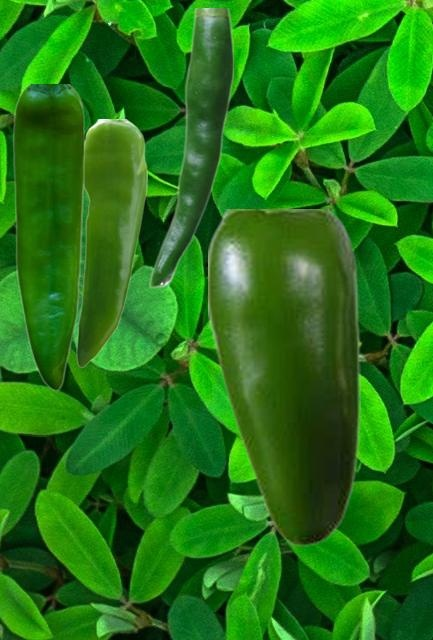green_chili: (208, 209, 359, 546), (148, 8, 232, 287), (12, 84, 84, 389), (76, 119, 146, 366)
